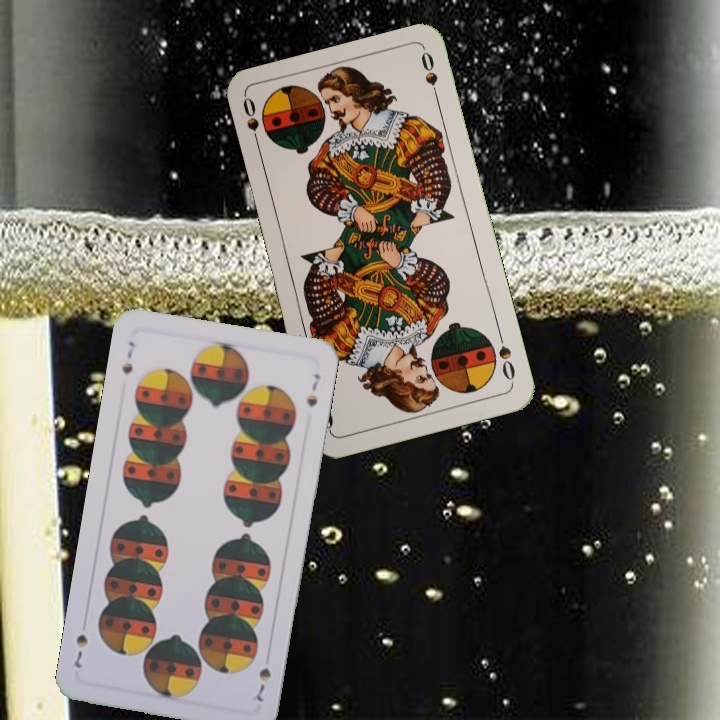S7: (252, 663, 274, 705), (118, 337, 138, 377)
SO: (238, 93, 263, 152), (494, 327, 518, 386)
